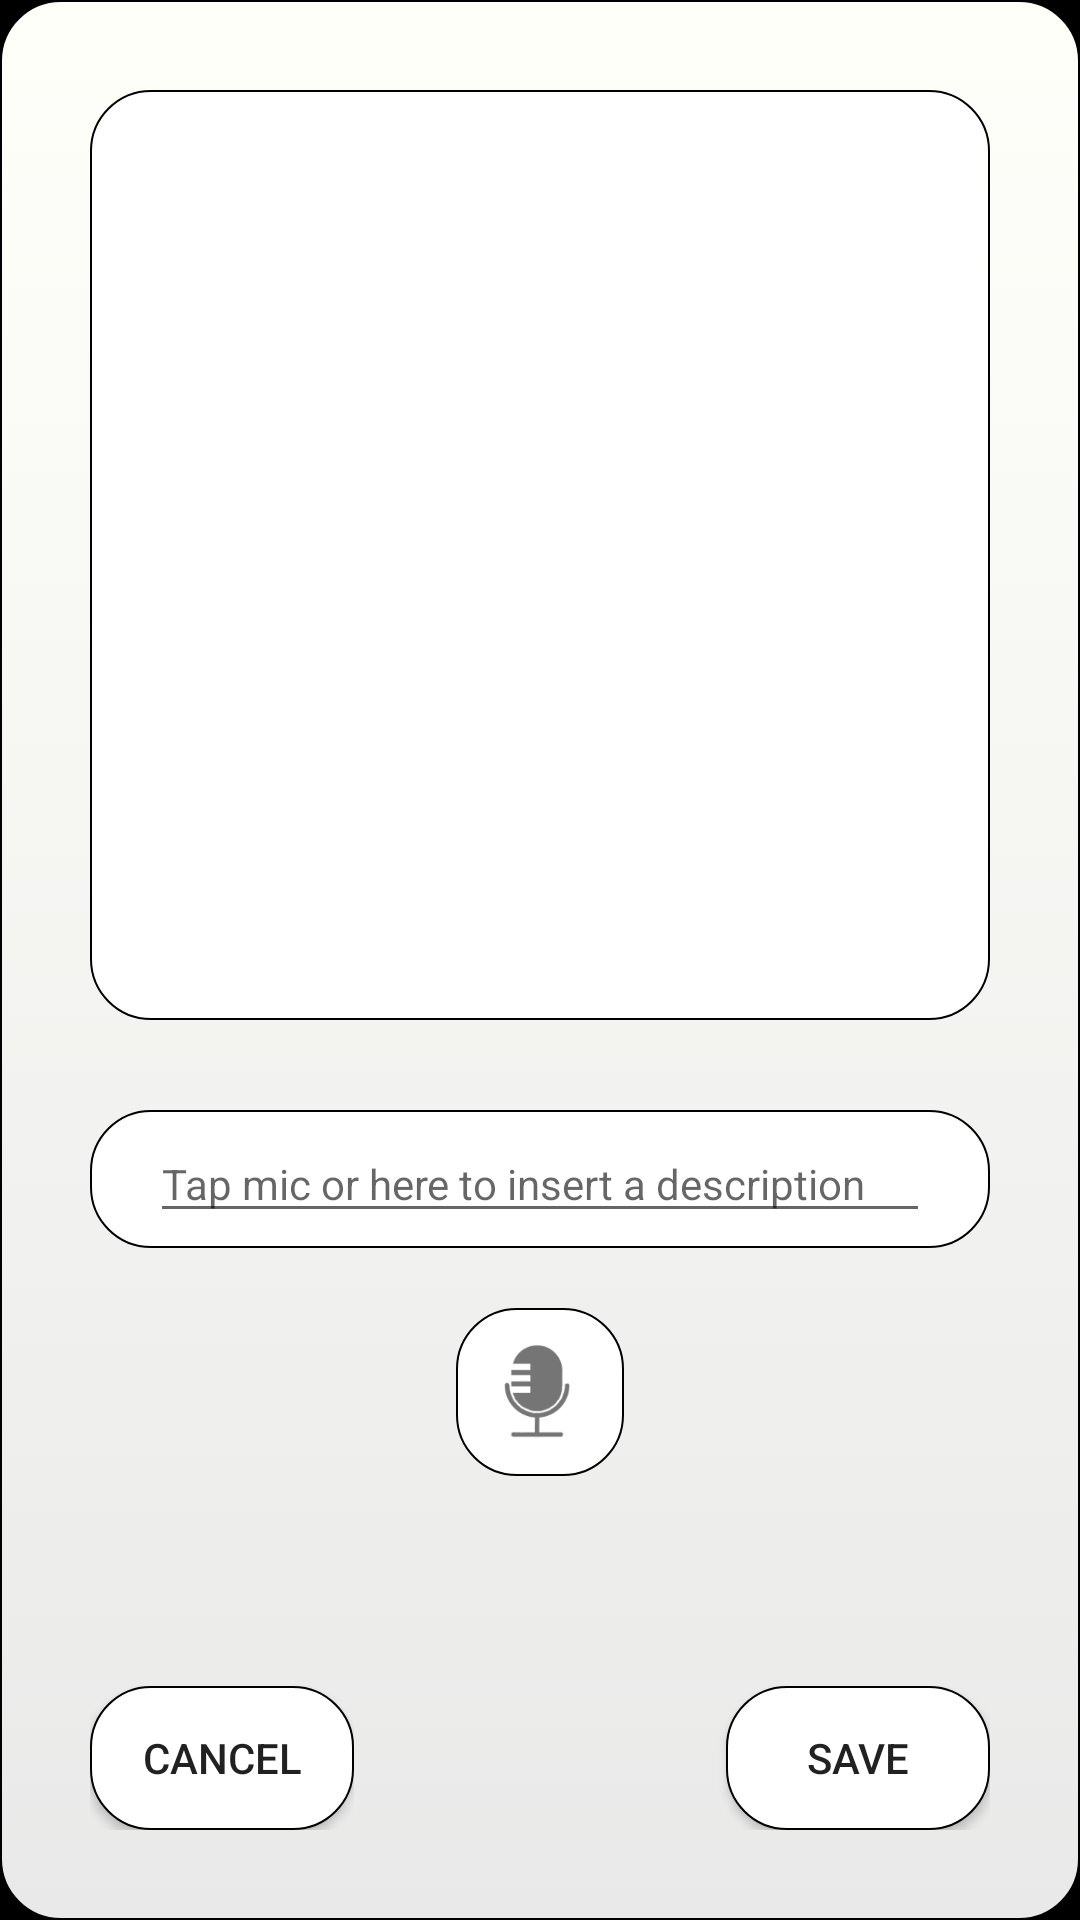

Icon click points for this 1080px x 1920px phone screenshot, format (x,y):
microphone: (540,1392)
